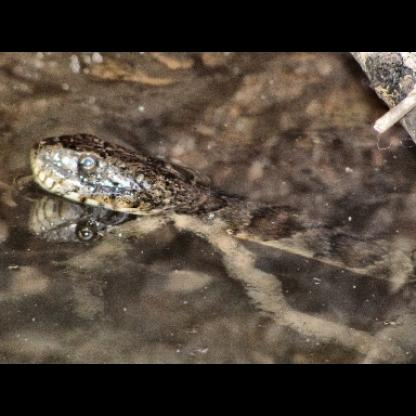Snake: (19, 114, 413, 286), (27, 117, 207, 220)
